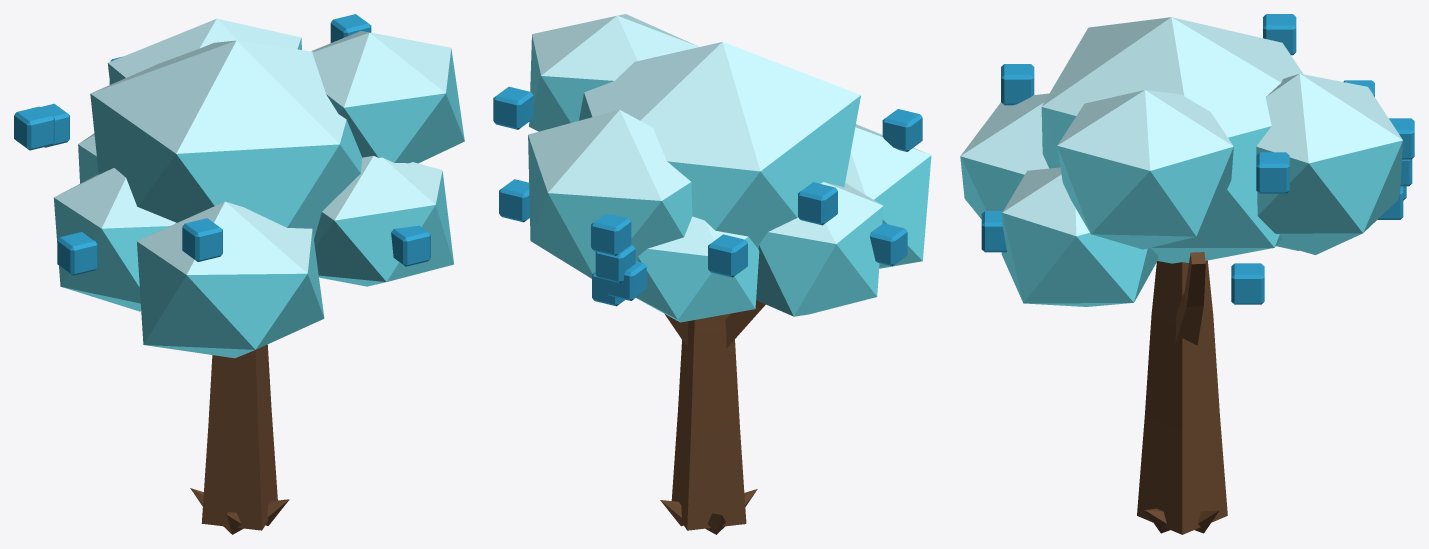
File: DiamondTree.fbx
3 views of the same model, side by side, from view 1: azimuth 30°, elevation 25°; view 2: azimuth 150°, elevation 25°; view 3: azimuth 270°, elevation 25° (orthographic). The views are drawn at different scales.
Parts seen in each view (by area): view 1: DiamondTree; view 2: DiamondTree; view 3: DiamondTree.
Part boxes in pixels (x1,y1,x2,y2): DiamondTree: (14,14,464,534); DiamondTree: (493,14,931,534); DiamondTree: (960,14,1414,534).
Size of the model in its own units: 11.48 by 14.04 by 11.49.
Materials: 1 (1 with a texture image).
